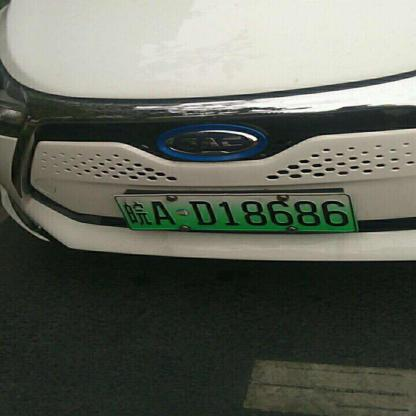lp: (115, 194, 356, 230)
